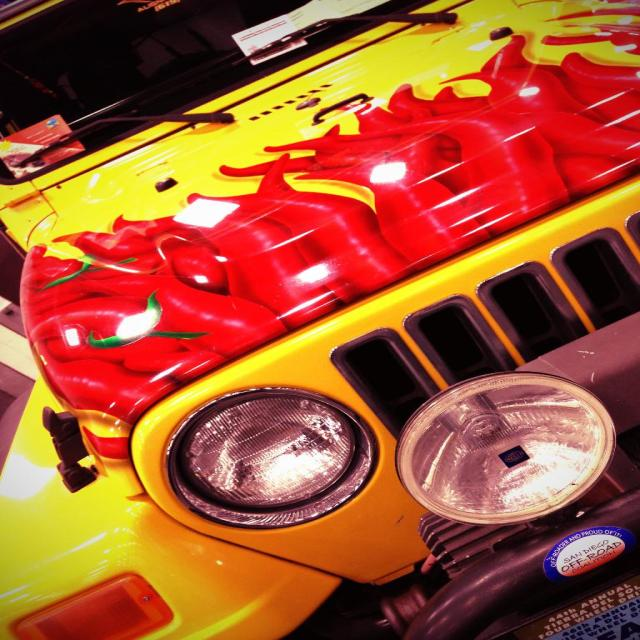car: (0, 34, 611, 639)
